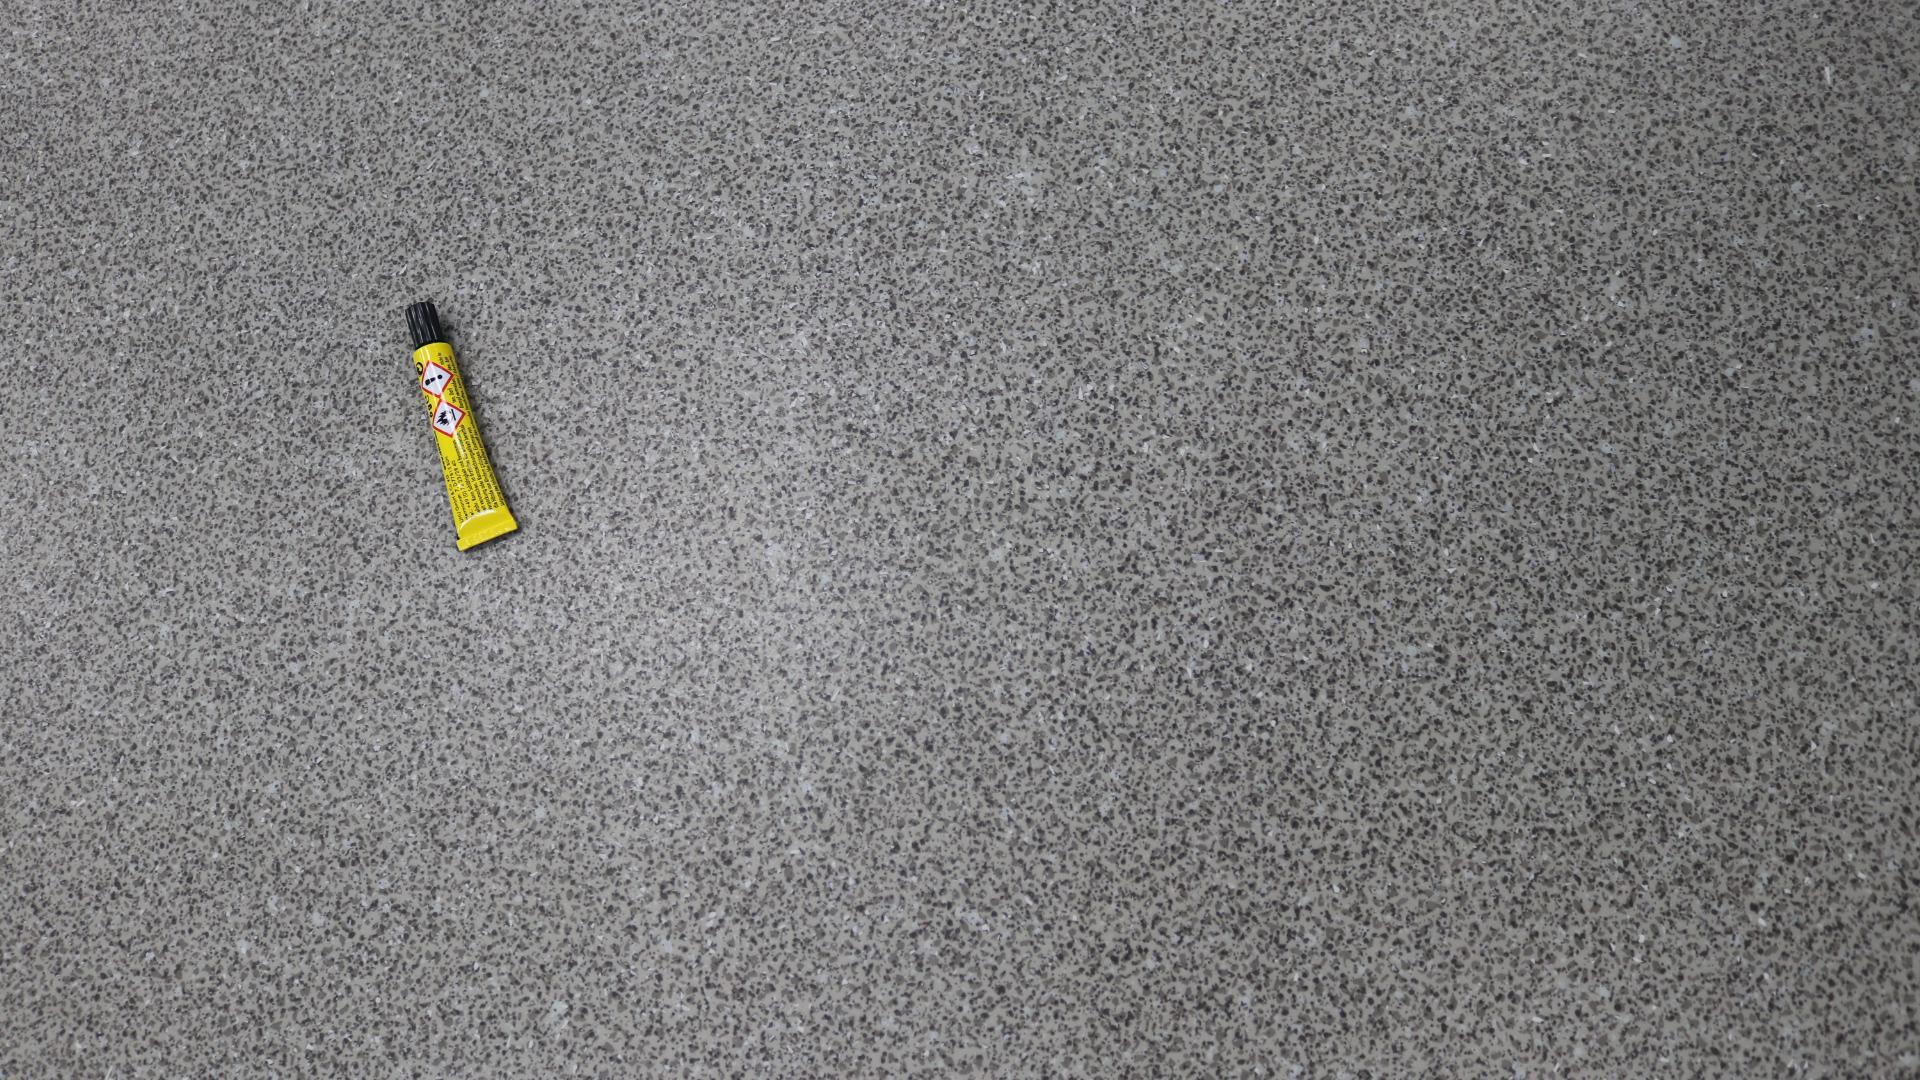Head: (420, 319, 425, 326)
Tail: (481, 533, 488, 539)
Tube: (405, 300, 518, 552)
